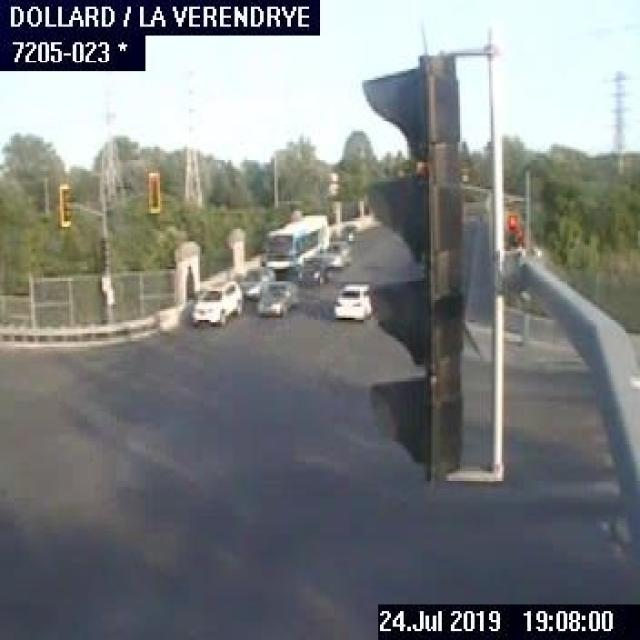bus: (262, 210, 328, 272)
vehicle: (187, 272, 247, 322), (254, 277, 297, 320), (331, 280, 369, 324), (236, 264, 275, 296), (316, 238, 352, 270), (292, 254, 328, 285)
